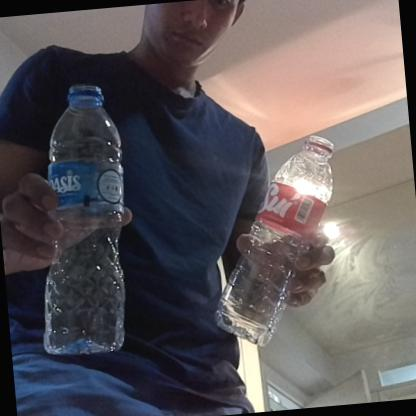plastic_bottles: (202, 132, 350, 350), (22, 80, 138, 357)
